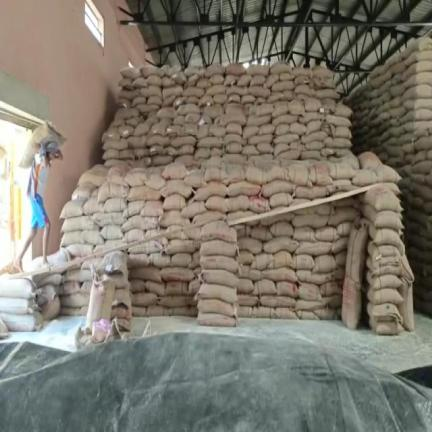Zone-Counting: (13, 122, 64, 271)
